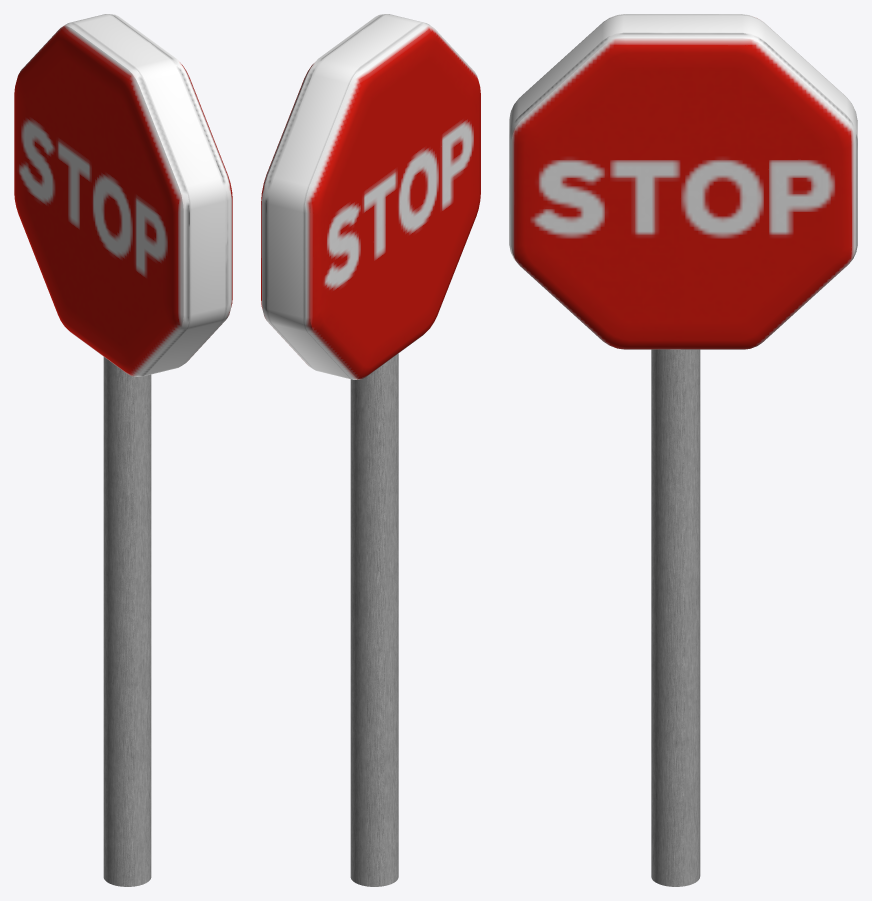
File: SeñalStop.fbx
The picture shows the model from 3 angles, left to right: view 1: azimuth 30°, elevation 25°; view 2: azimuth 150°, elevation 25°; view 3: azimuth 270°, elevation 25°; orthographic projection. The views are drawn at different scales.
Parts seen in each view (by area): view 1: Base; view 2: Base; view 3: Base.
Boxes of the visible parts, x1,y1,x2,y2 form: Base: (14, 14, 232, 886); Base: (261, 14, 480, 886); Base: (509, 14, 857, 886).
Bounding box in the file's own units: 34.92 × 176 × 475.
